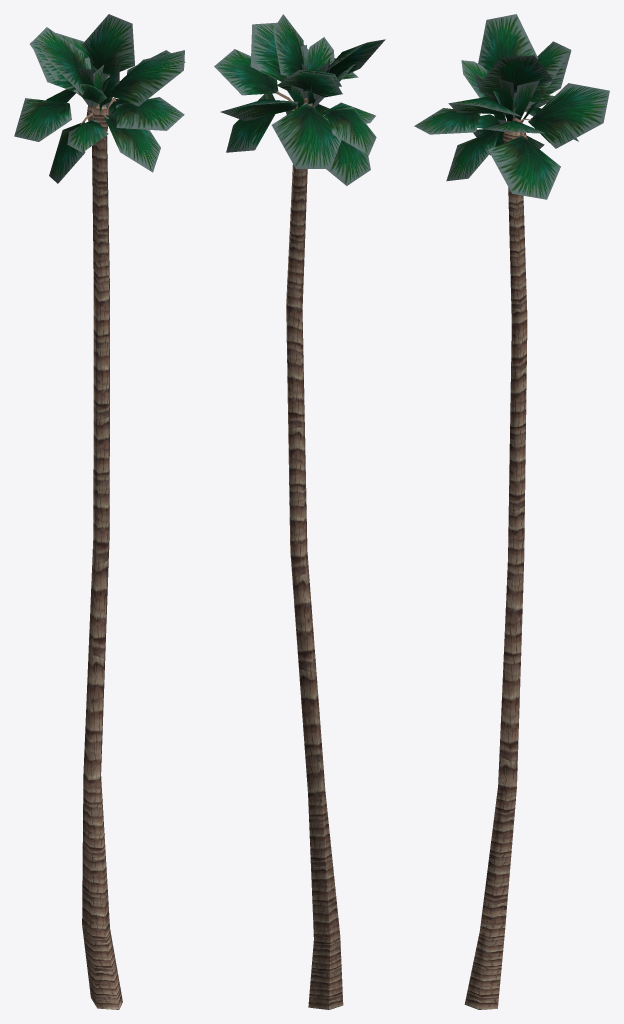
The model's file is palm_tree_c.fbx.
3 renders of one model, left to right at view 1: azimuth 30°, elevation 25°; view 2: azimuth 150°, elevation 25°; view 3: azimuth 270°, elevation 25°, orthographic. The views are drawn at different scales.
Visible parts, largest first — view 1: med_trunk_a, med_leaf_c; view 2: med_trunk_a, med_leaf_c; view 3: med_leaf_c, med_trunk_a.
Part boxes in pixels (x1,y1,x2,y2): med_trunk_a: (82,104,122,1009); med_leaf_c: (14,14,185,183); med_trunk_a: (286,98,343,1009); med_leaf_c: (214,14,385,185); med_leaf_c: (414,14,609,199); med_trunk_a: (464,112,527,1009).
Size of the model in its own units: 1663 by 10118 by 1867.
2 materials, 2 textured.
